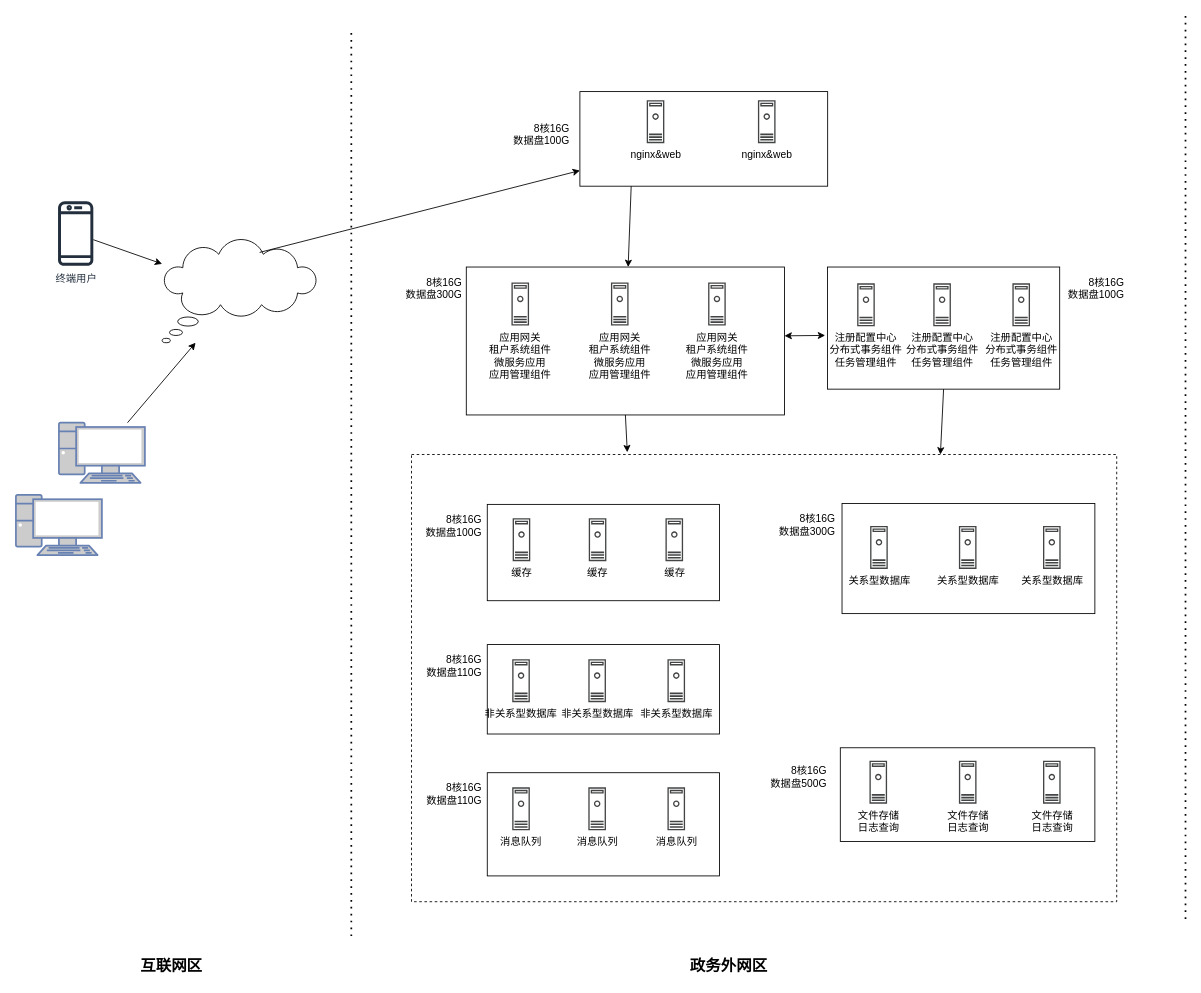
Image size: 1201x993. Some labels were removed from this diagram. The box of each missing label's shape, as (x1, y1, x2, y2) in pixels:
internet: (161, 239, 317, 343)
中间件: (411, 454, 1117, 902)
政务办公人员: (15, 494, 102, 556)
